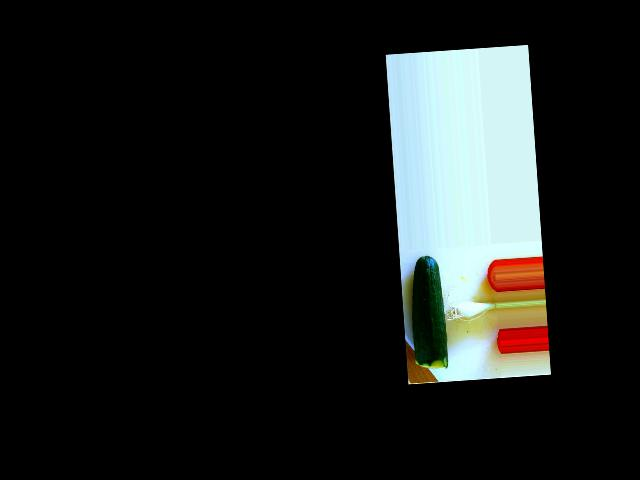cucumber: (407, 253, 448, 370)
